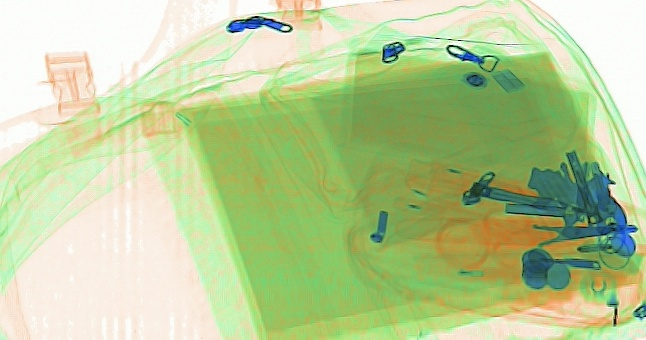scissors: (484, 198, 640, 272)
